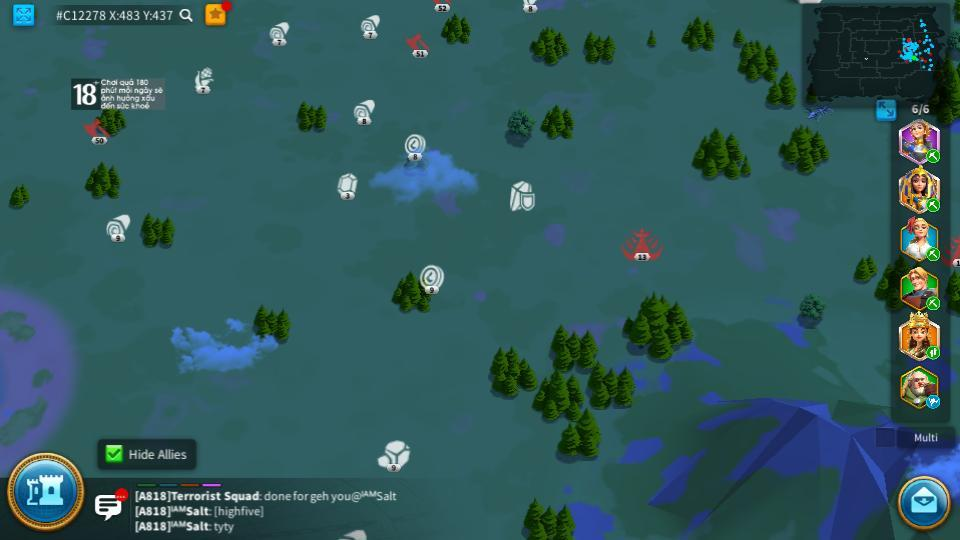gem-z-out: (335, 173, 360, 199)
march_farming: (923, 197, 940, 212), (925, 149, 941, 162)
march_idle: (925, 396, 942, 408)
march_marching: (925, 297, 943, 310), (925, 347, 941, 359)
